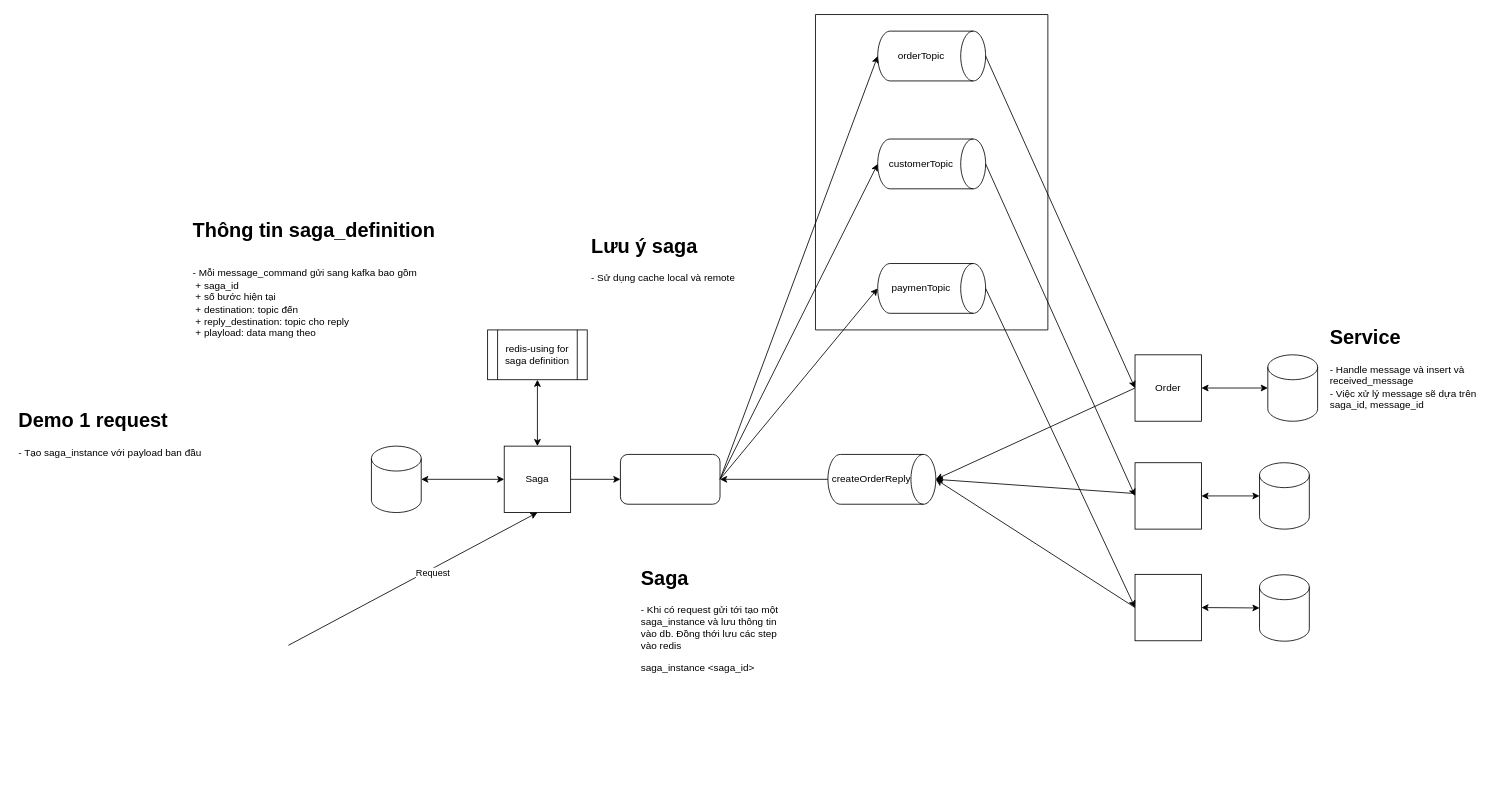
The diagram is 1497 pixels wide and 809 high, and some of its shapes have lost their labels. Each missing label, with the box of its shape:
Customer: (1134, 462, 1201, 529)
Kafka: (620, 454, 720, 504)
Payment: (1134, 574, 1201, 641)
